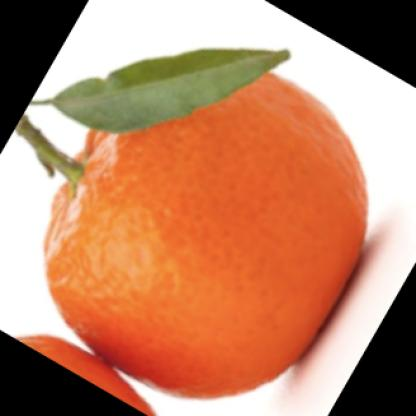fresh: (44, 63, 367, 399)
